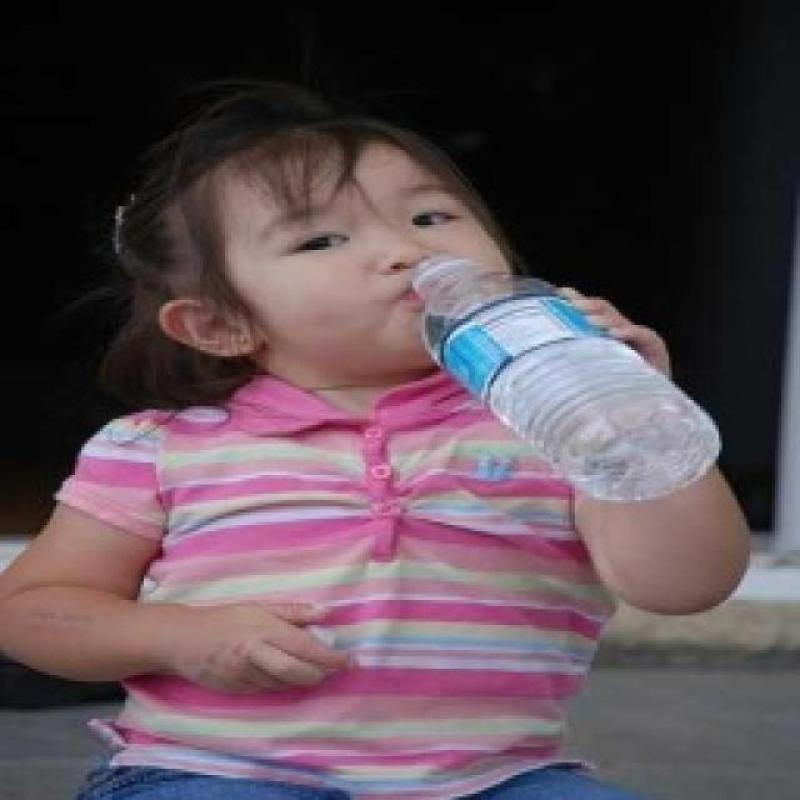botella: (412, 257, 722, 505)
